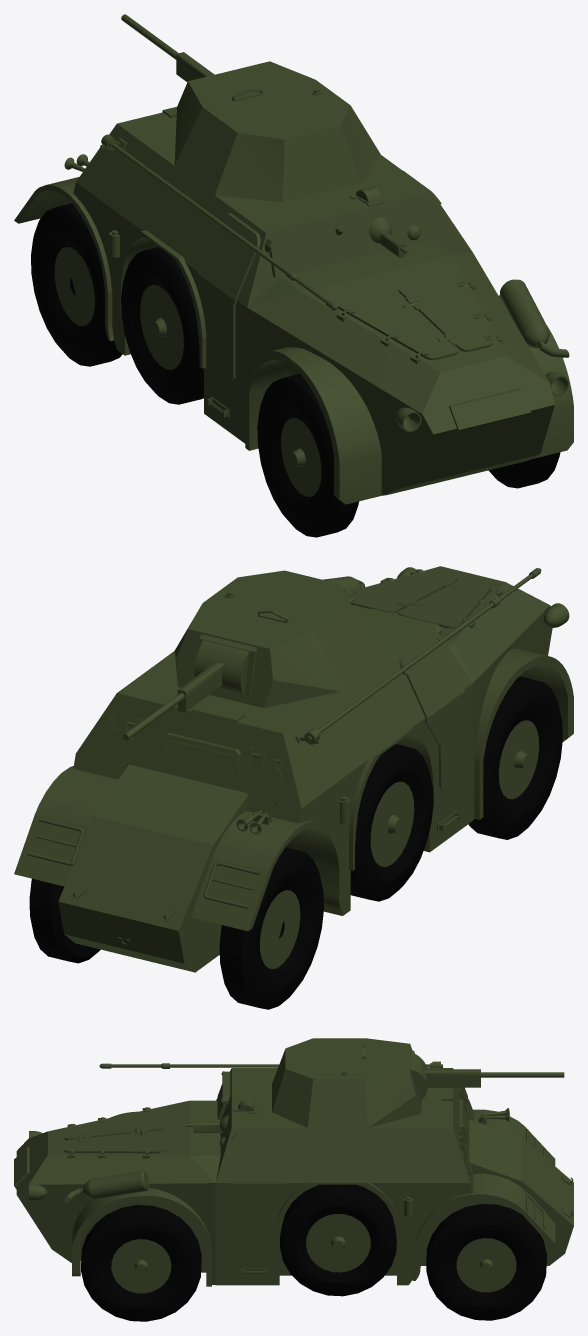
The model's file is sdkfz-222.fbx.
3 views of the same model, one above another, from view 1: azimuth 30°, elevation 25°; view 2: azimuth 150°, elevation 25°; view 3: azimuth 270°, elevation 25° (orthographic). The views are drawn at different scales.
Parts seen in each view (by area): view 1: Material2.001; view 2: Material2.001; view 3: Material2.001.
Boxes of the visible parts, x1,y1,x2,y2 form: Material2.001: [14, 14, 573, 537]; Material2.001: [14, 566, 573, 1009]; Material2.001: [14, 1038, 573, 1321].
Size of the model in its own units: 906 by 1103 by 2440.
